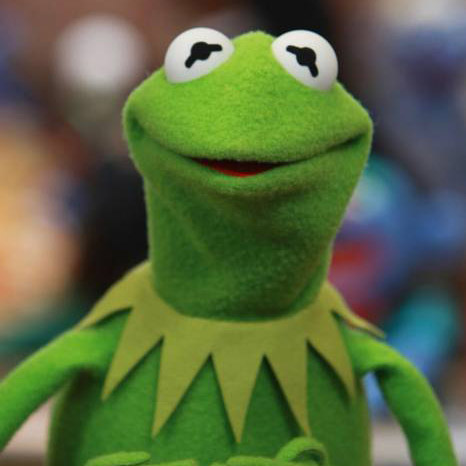kermit: (122, 18, 377, 319)
